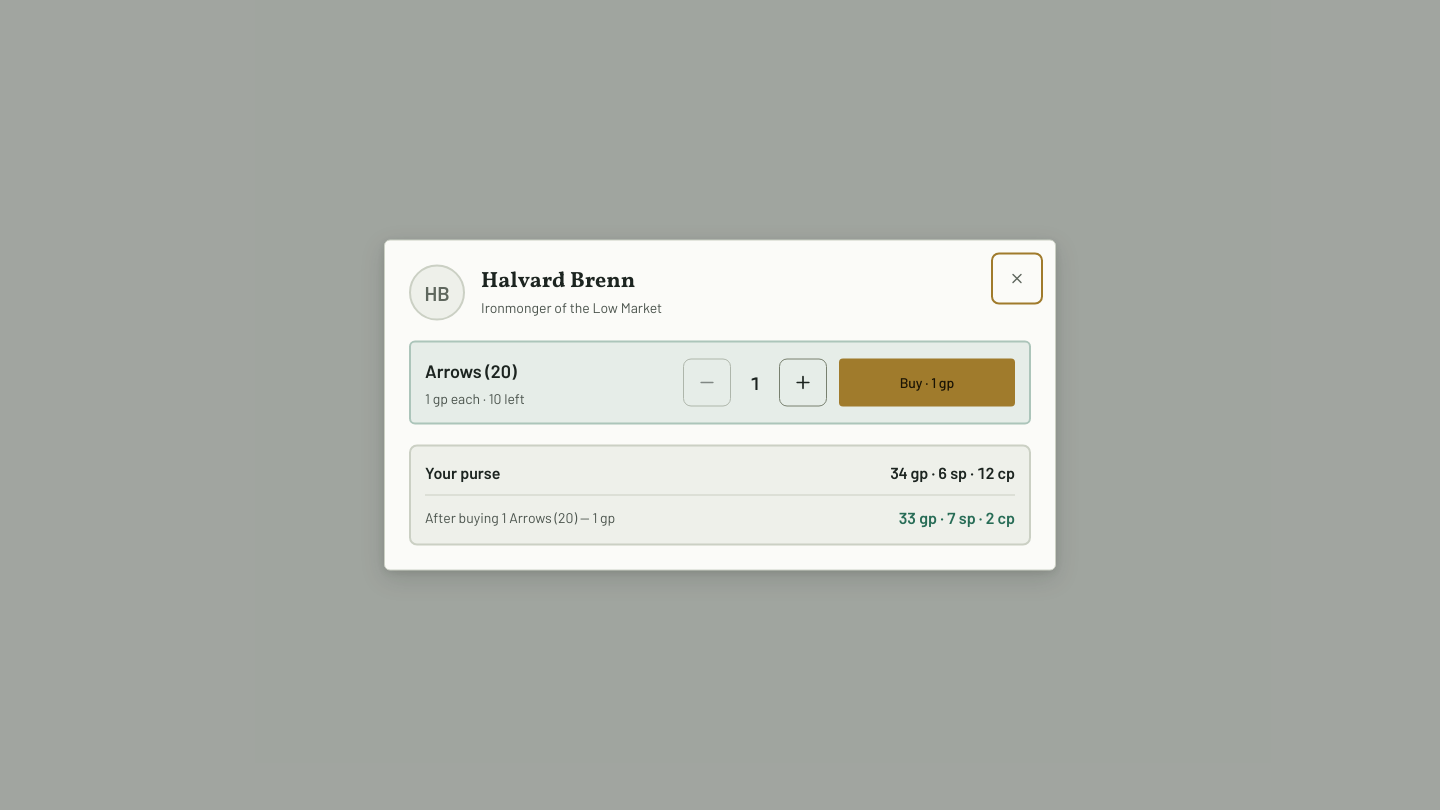
it: purchase flow › surfaces a partial grant instead of a flat success message
Expected: the heading "Halvard Brenn" is shown, [481, 268, 662, 295]
What coordinates should you click on to do the following:
click the button named "More Arrows (20)"
I would click on:
 (803, 382)
Its box is [779, 358, 827, 406].
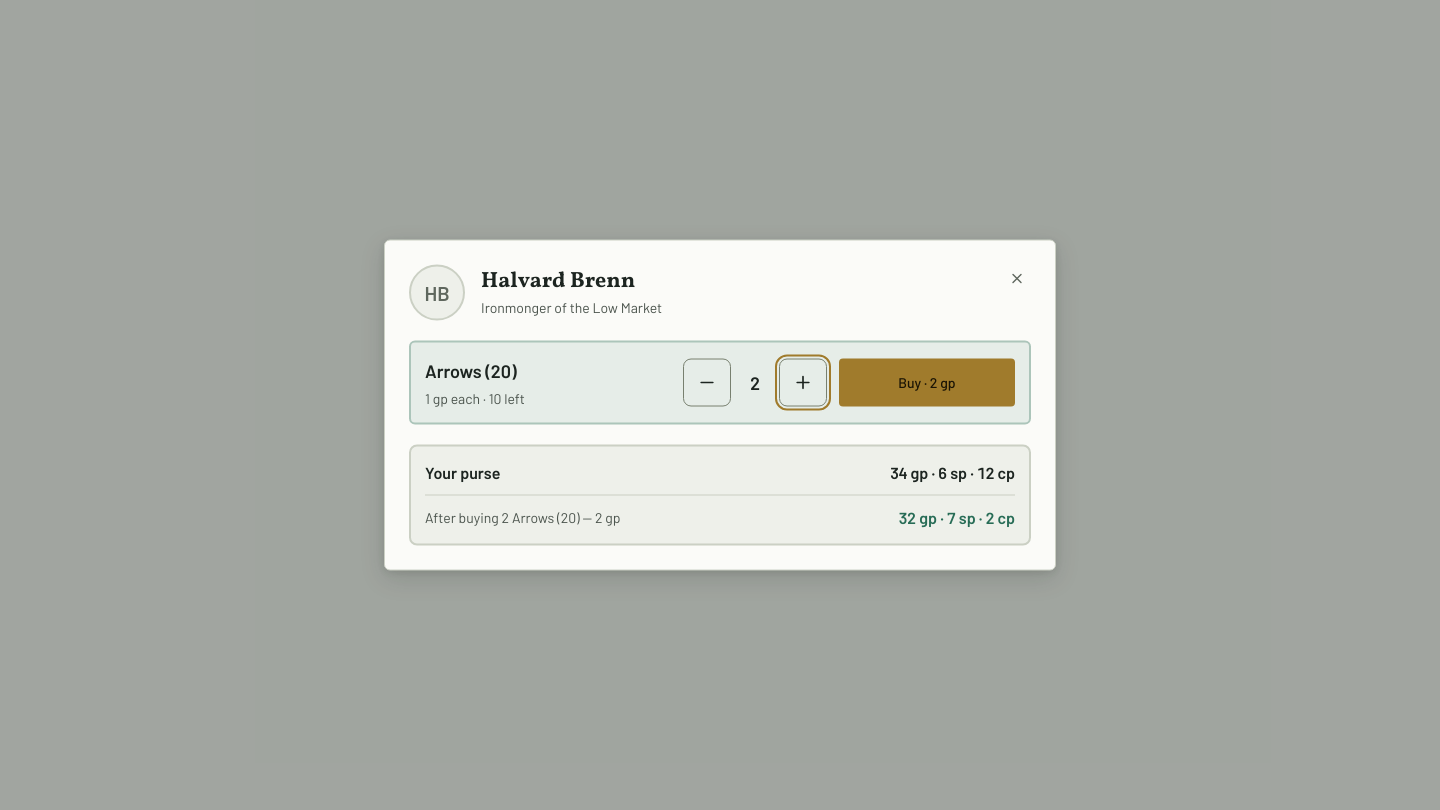
What coordinates should you click on to do the following:
click the button "Buy · 2 gp"
I would click on:
 (927, 382)
Its box is [839, 358, 1015, 406].
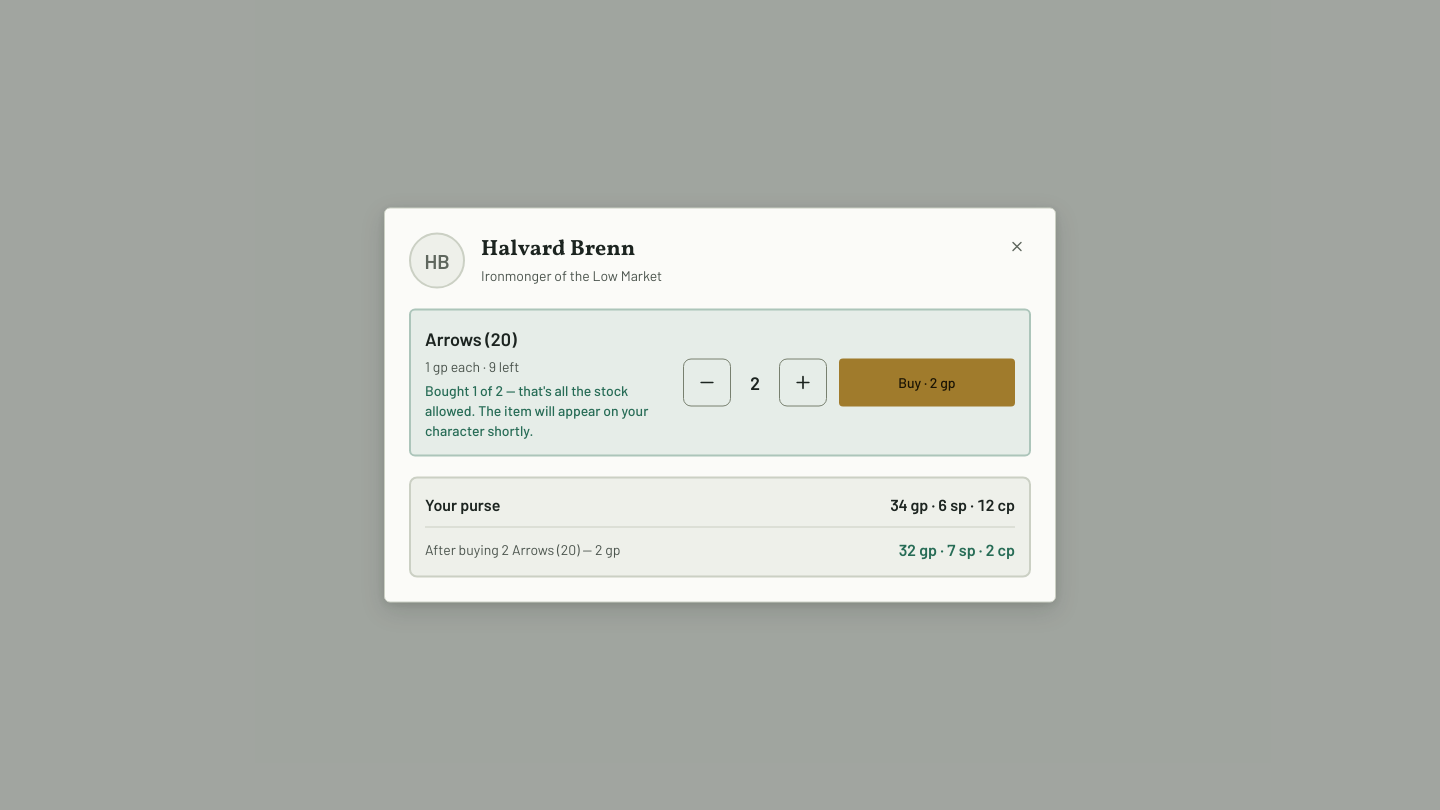
Now the text "Bought 1 of 2 — that's all the stock allowed" is shown, box [425, 382, 648, 438]
